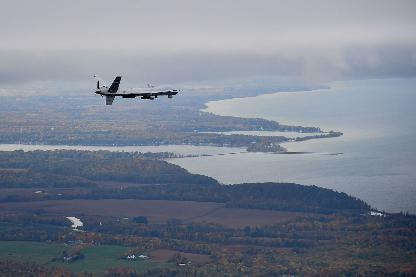MQ9: (92, 75, 182, 105)
